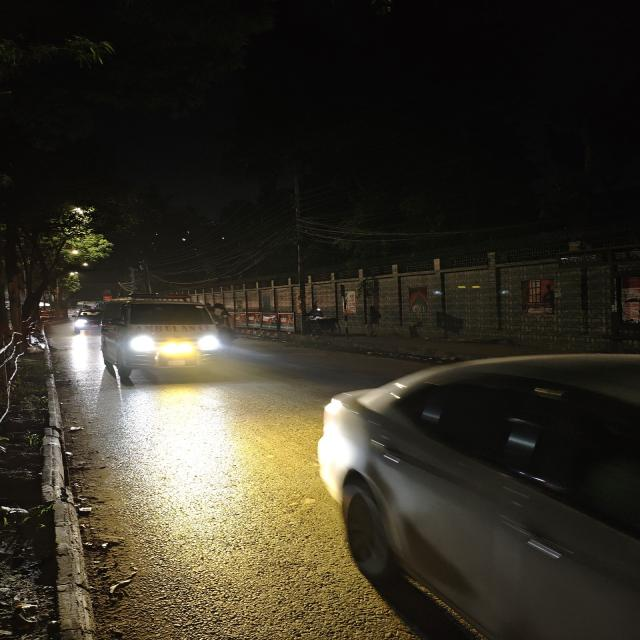car: (310, 352, 640, 638), (95, 297, 223, 383), (68, 309, 102, 334)
